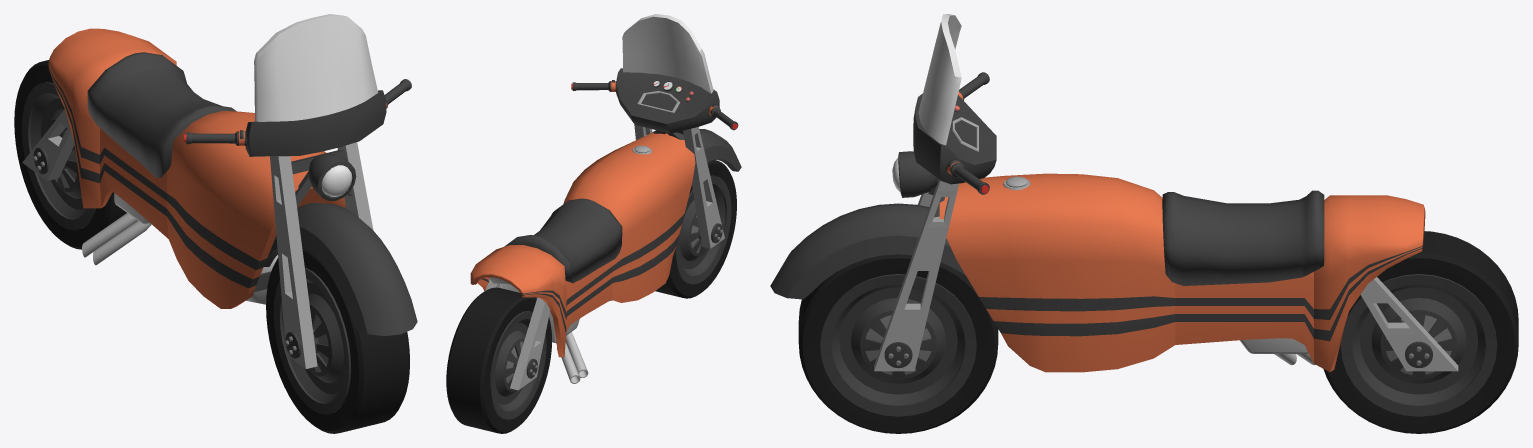
File: motorcycle.fbx
3 renders of one model, left to right at view 1: azimuth 30°, elevation 25°; view 2: azimuth 150°, elevation 25°; view 3: azimuth 270°, elevation 25°, orthographic. The views are drawn at different scales.
Visible parts, largest first — view 1: Motorcycle; view 2: Motorcycle; view 3: Motorcycle.
Boxes of the visible parts, <box> form: Motorcycle: <box>14,14,417,433</box>; Motorcycle: <box>446,14,741,433</box>; Motorcycle: <box>770,14,1518,433</box>.
Size of the model in its own units: 93.99 by 154 by 260.
